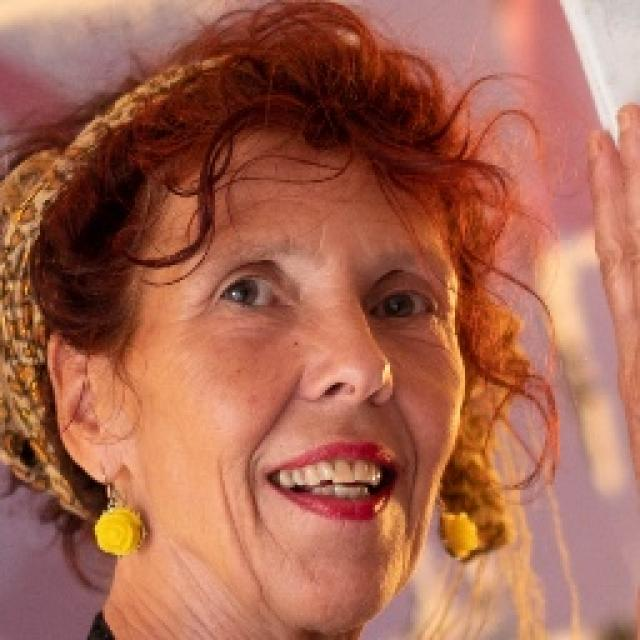earlobe: (82, 425, 129, 487)
eye: (218, 275, 286, 313), (370, 287, 434, 321)
nose: (304, 376, 408, 435)
wholeear: (48, 328, 129, 486)
